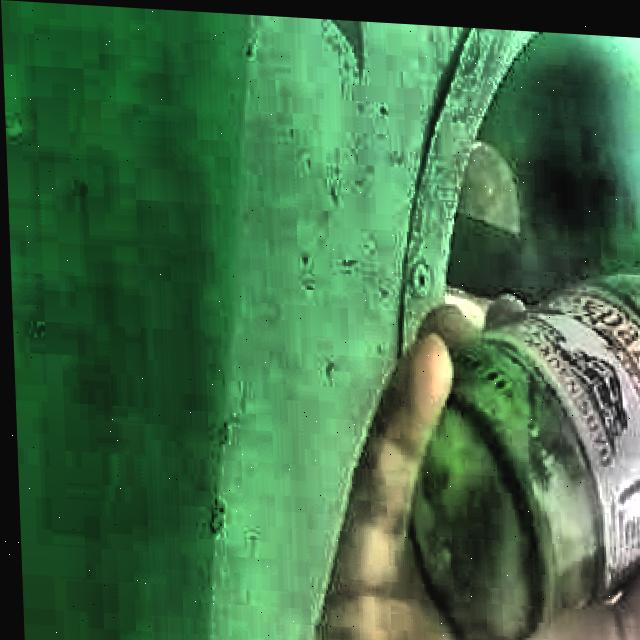glass: (409, 266, 640, 640)
